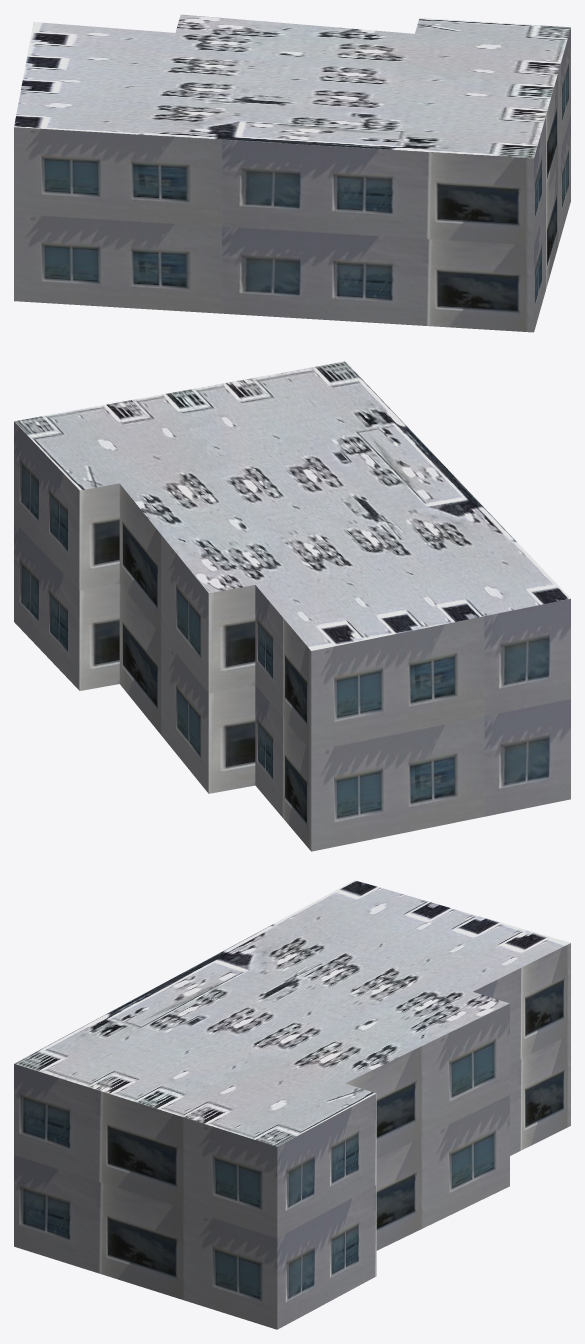
Rendered from ResTex__2007.fbx.
The picture shows the model from 3 angles, top to bottom: view 1: azimuth 30°, elevation 25°; view 2: azimuth 150°, elevation 25°; view 3: azimuth 270°, elevation 25°; orthographic projection. The views are drawn at different scales.
Parts seen in each view (by area): view 1: CityEngineMaterial_10_m, CityEngineMaterial_4_m; view 2: CityEngineMaterial_10_m, CityEngineMaterial_4_m; view 3: CityEngineMaterial_10_m, CityEngineMaterial_4_m.
Boxes of the visible parts, box(x1,y1,x2,y2) form: CityEngineMaterial_10_m: box(14, 28, 570, 332); CityEngineMaterial_4_m: box(14, 14, 570, 158); CityEngineMaterial_10_m: box(14, 422, 570, 851); CityEngineMaterial_4_m: box(14, 361, 570, 650); CityEngineMaterial_10_m: box(14, 943, 570, 1329); CityEngineMaterial_4_m: box(14, 880, 570, 1146).
Size of the model in its own units: 18.77 by 6 by 16.56.
Materials: 2 (2 with a texture image).
